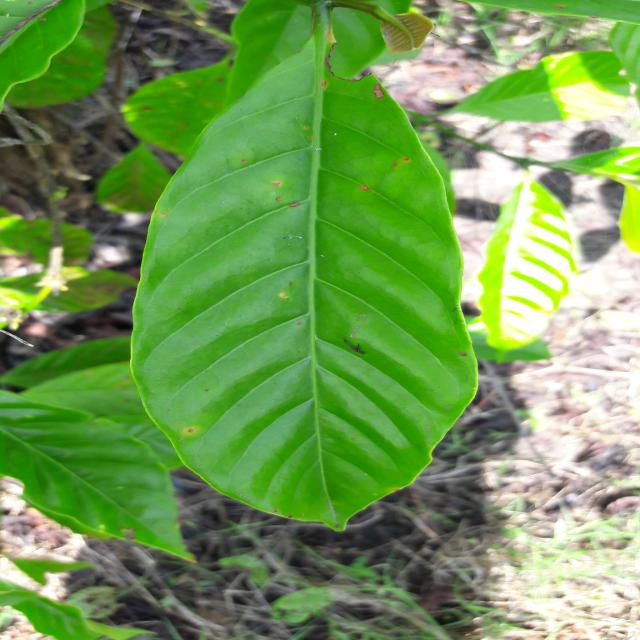Enfermedad-Roya: (128, 37, 481, 534)
